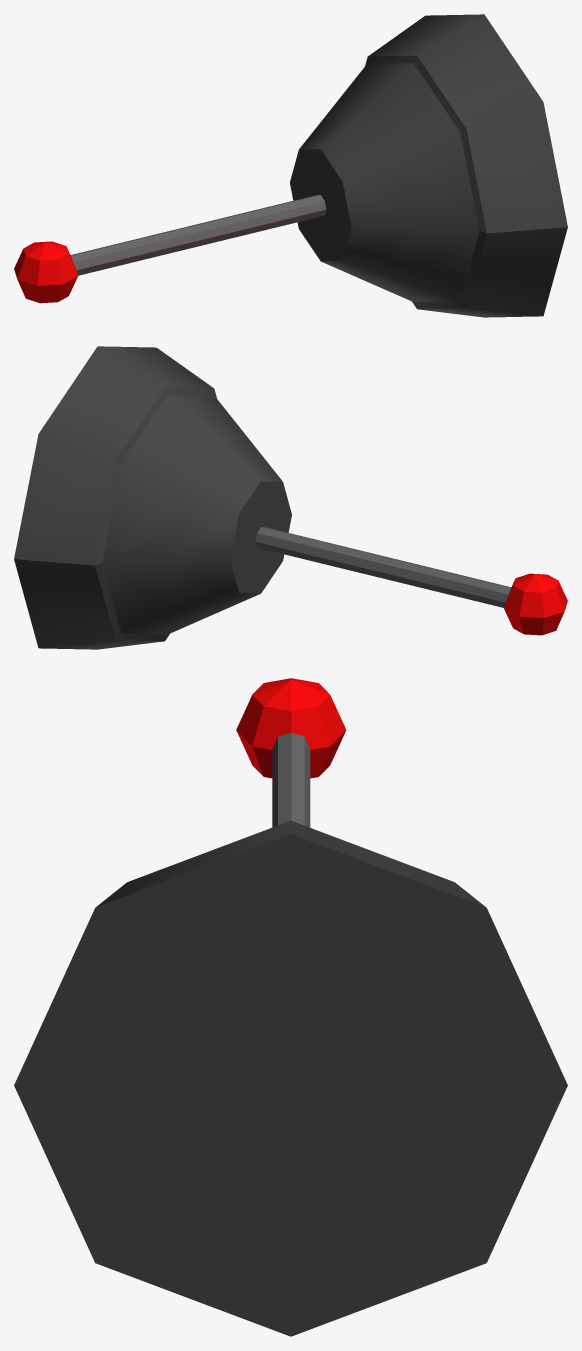
File: Nez_2.FBX
3 views of the same model, one above another, from view 1: azimuth 30°, elevation 25°; view 2: azimuth 150°, elevation 25°; view 3: azimuth 270°, elevation 25° (orthographic). The views are drawn at different scales.
Parts seen in each view (by area): view 1: Object008; view 2: Object008; view 3: Object008.
Boxes of the visible parts, x1,y1,x2,y2 form: Object008: (14, 14, 567, 317); Object008: (14, 346, 567, 649); Object008: (14, 678, 567, 1336).
Bounding box in the file's own units: 32.43 × 20.12 × 20.09.
